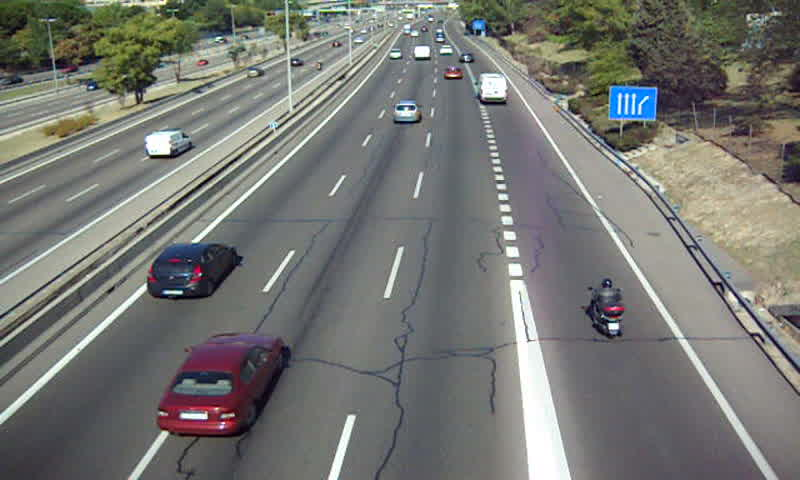car: (158, 333, 284, 435), (147, 242, 236, 295), (390, 100, 420, 126), (441, 65, 462, 81), (458, 50, 476, 64), (439, 44, 454, 56), (389, 48, 402, 60)
motorcycle: (588, 278, 625, 340)
van: (474, 72, 508, 103), (412, 45, 429, 60)
